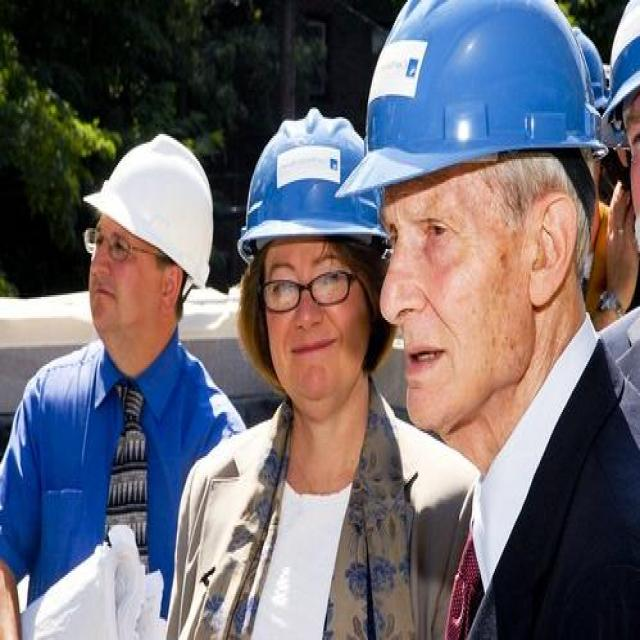Safety-Helmet: (340, 4, 608, 205), (236, 105, 386, 262), (84, 133, 220, 290), (601, 0, 640, 134)
